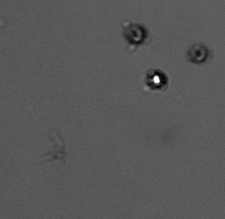Dead Cell: (124, 23, 146, 45), (187, 44, 209, 63)
Living Cell: (146, 69, 168, 89)
